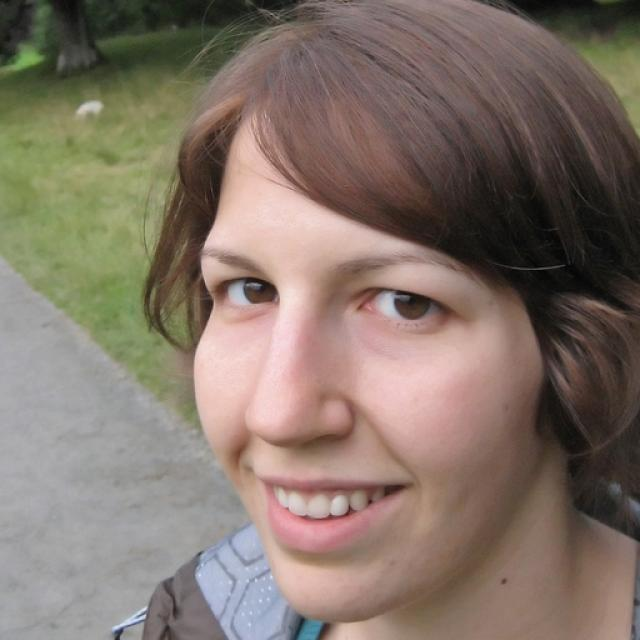happy: (186, 100, 546, 616)
